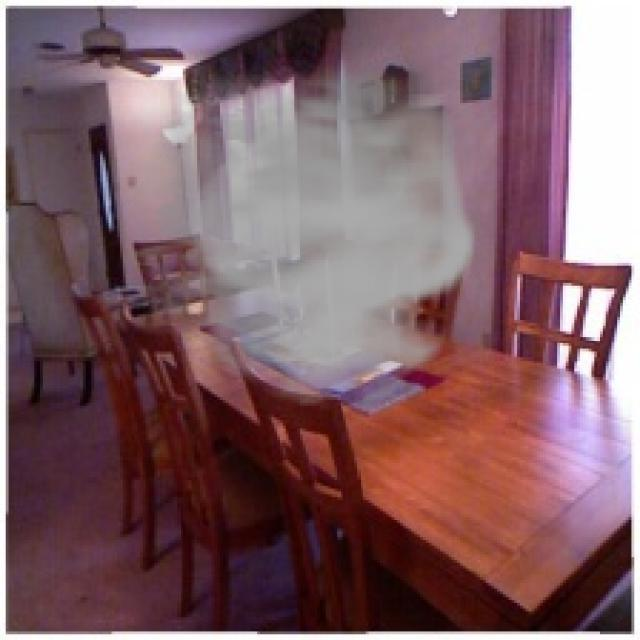Smoke: (86, 46, 483, 406)
